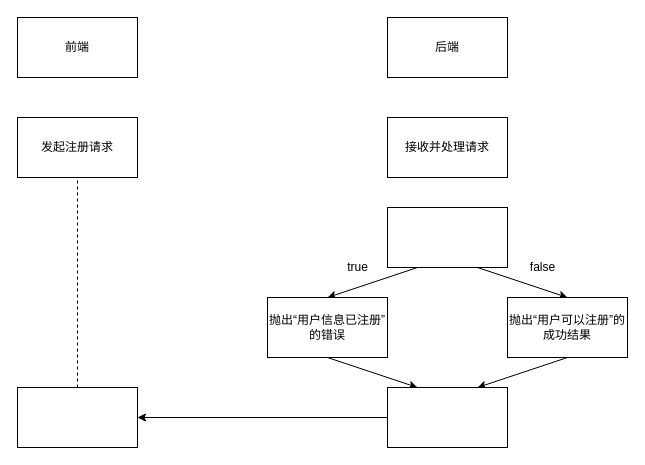
The diagram is 645 pixels wide and 465 high, and some of its shapes have lost their labels. Here are the shapes that lost their labels. From the top down, the centre of each, then its label:
[447,237]: 查询数据库中是否已存在相关账号信息
[77,417]: 根据响应 执行相应逻辑
[447,417]: 处理相应结果，并返回对应的响应结果
